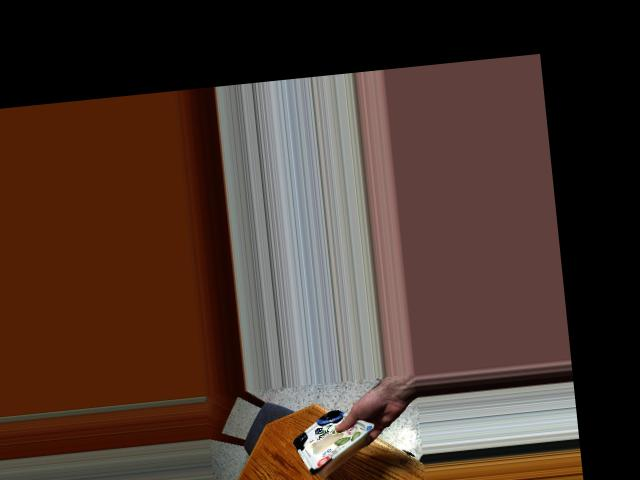cheese: (285, 405, 374, 480)
